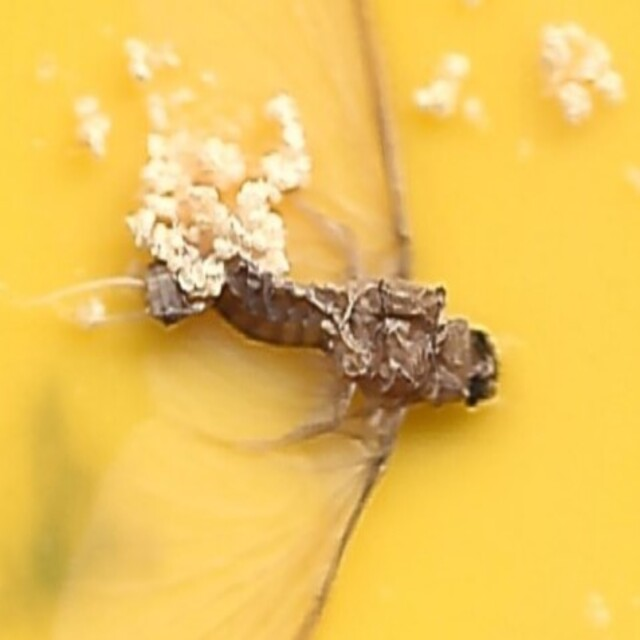Ephemeroptera: (134, 203, 506, 437)
